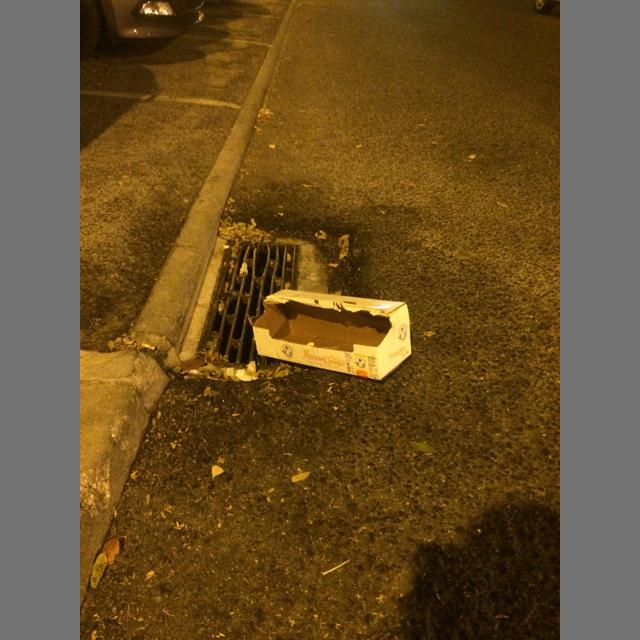litter: (252, 289, 411, 380), (142, 344, 156, 351)
